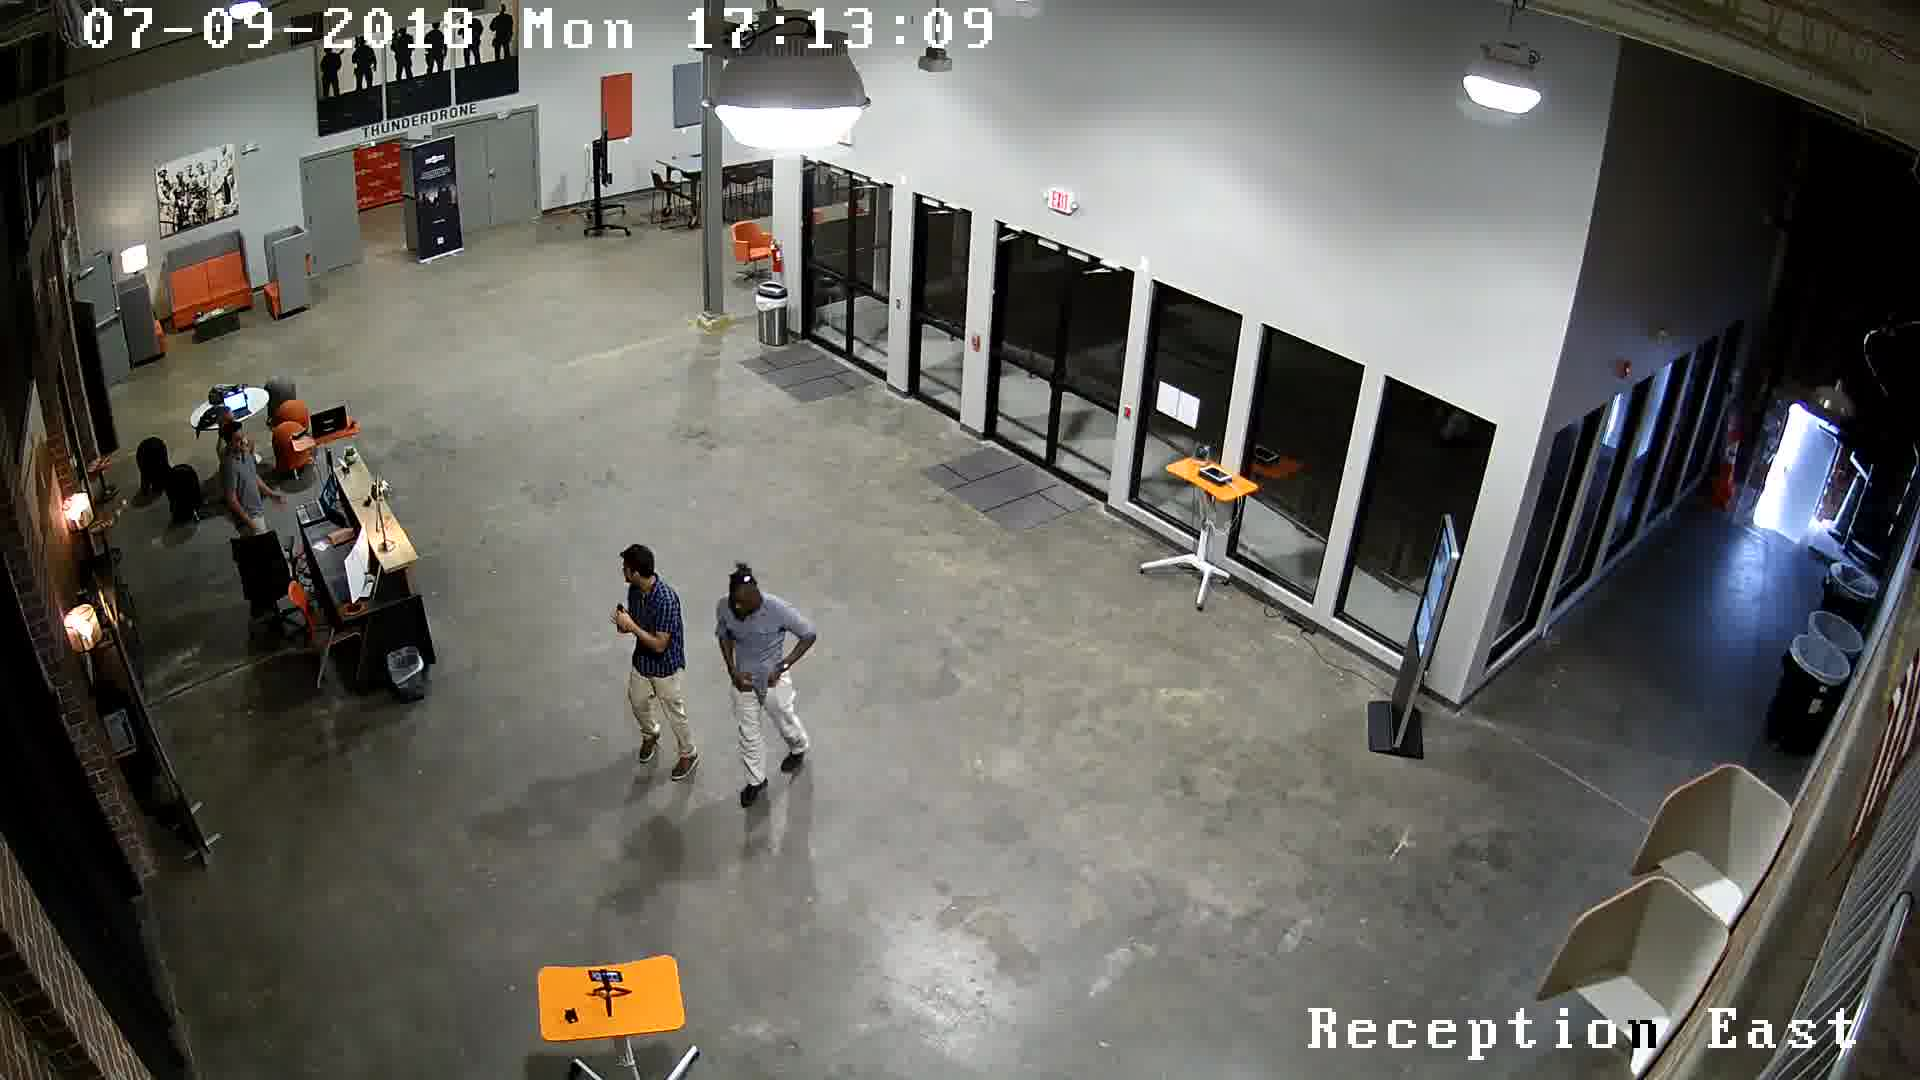pistol: (607, 601, 633, 634)
